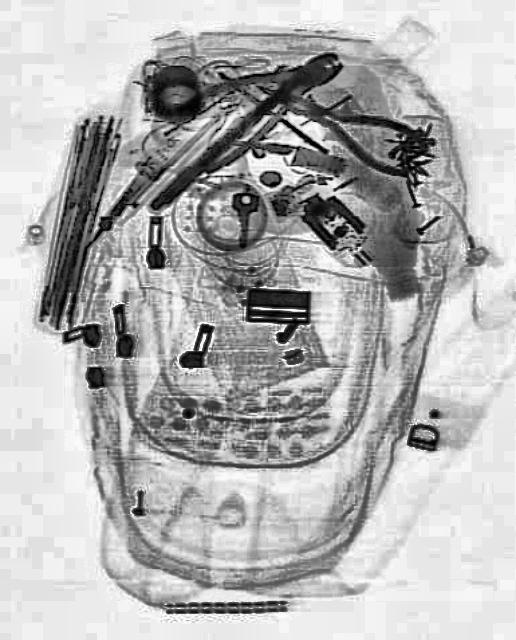Pliers: (175, 22, 354, 176), (248, 59, 428, 184)
